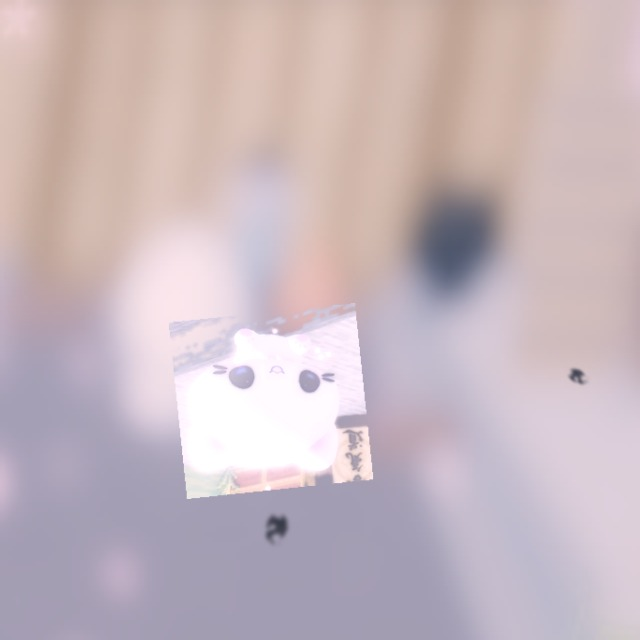urso_branco: (168, 303, 374, 499)
urso_preto: (256, 506, 297, 553), (563, 363, 594, 392)
